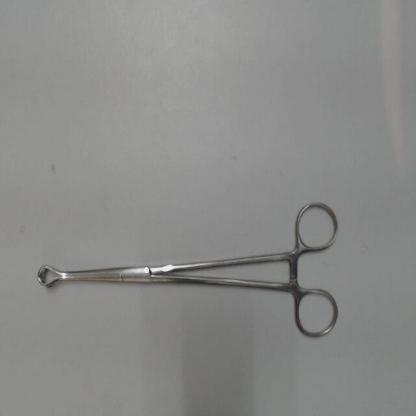8 Babcock Tissue Forceps: (33, 194, 343, 348)
